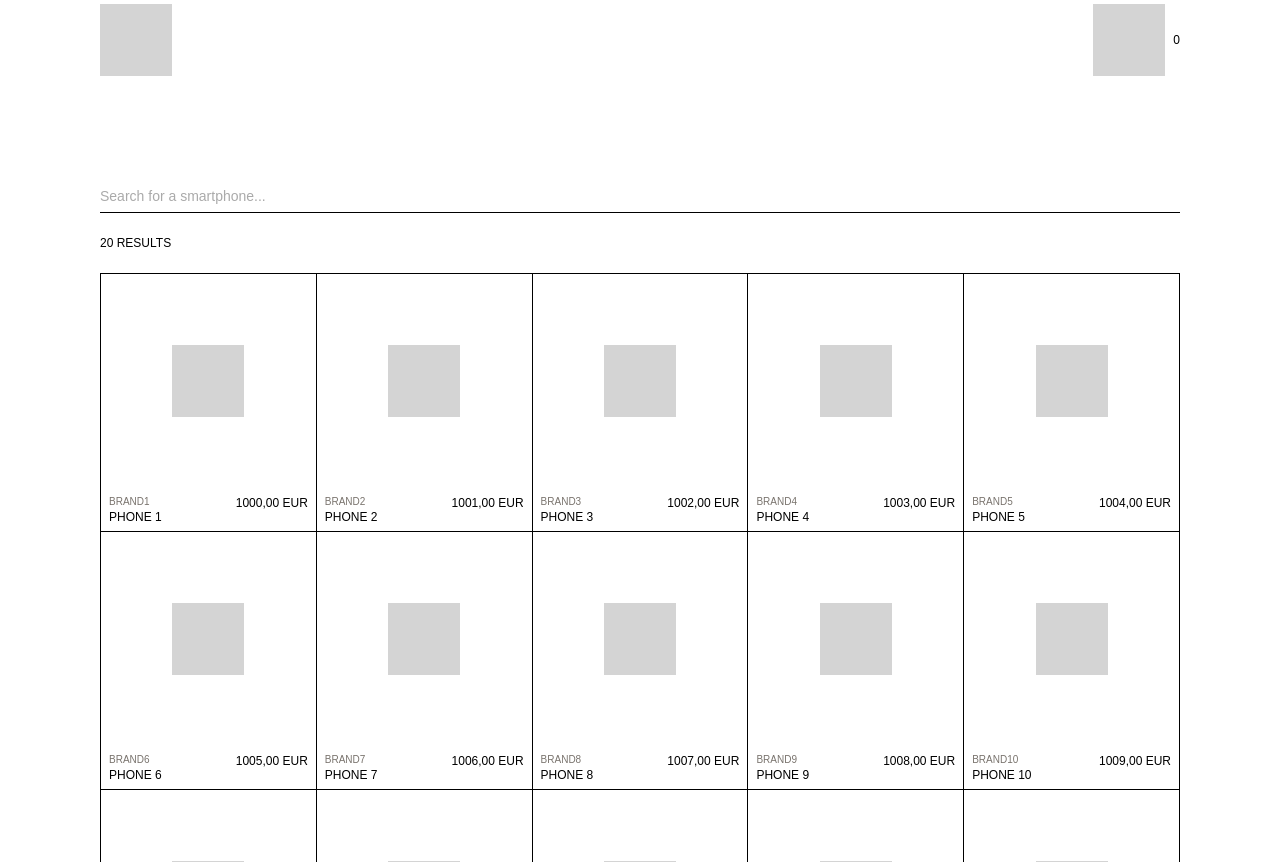
Test: catalog clear button › is absent when empty and present with text
Expected: the text "20 RESULTS" is shown, [100,236,171,250]
Type "a" into the search field at (640, 196), box [100,180,1180,213]
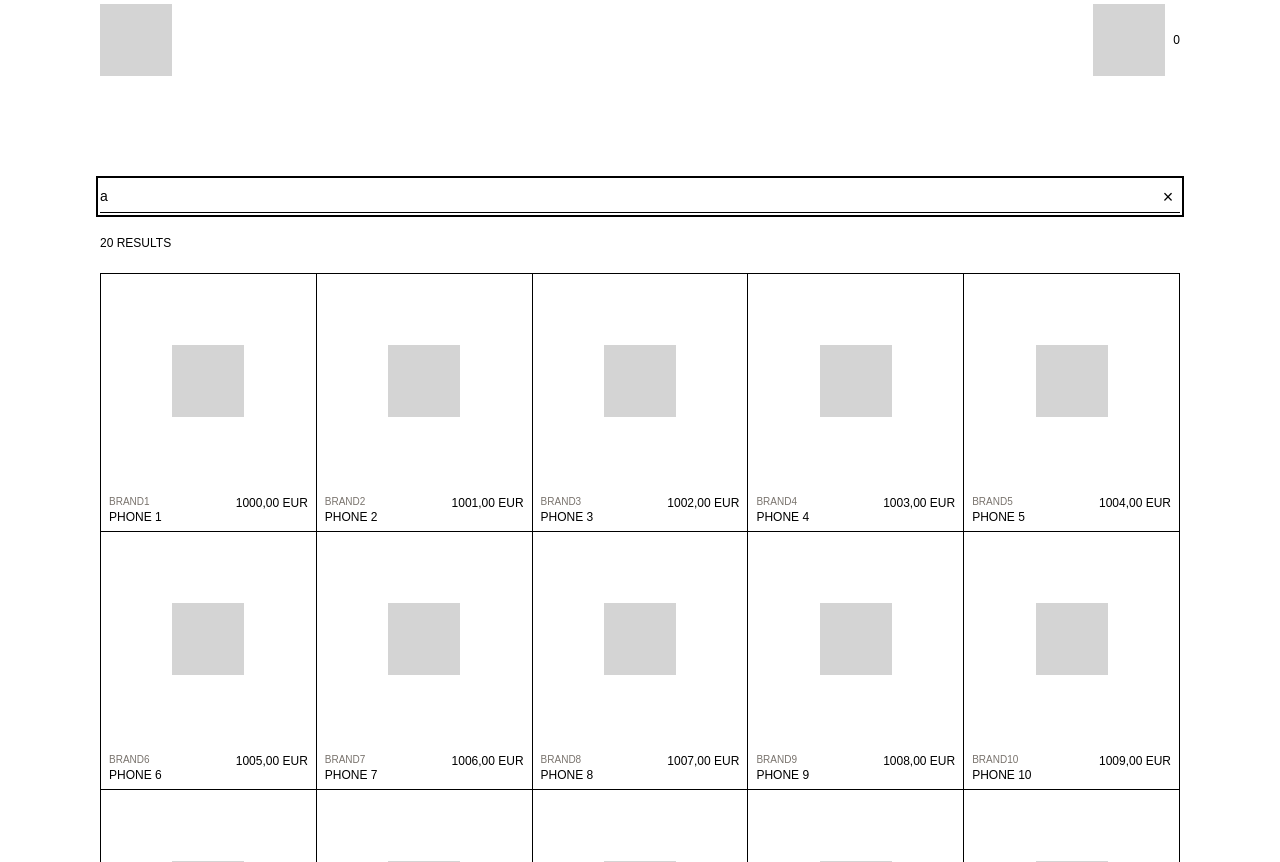
Expected: the button named "Clear search" is shown, [1156,184,1180,208]
